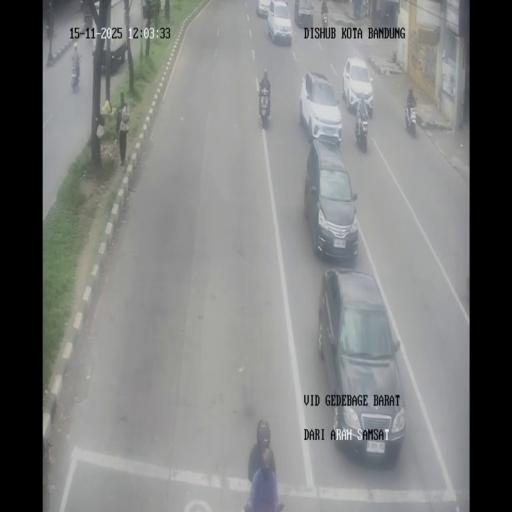3: (43, 1, 84, 31)
car: (318, 268, 404, 456), (304, 138, 358, 262), (300, 70, 342, 144), (342, 56, 374, 116), (94, 38, 128, 74), (267, 0, 292, 45), (294, 0, 314, 28), (257, 0, 271, 18)
truck: (354, 104, 370, 150), (404, 96, 418, 137), (258, 82, 271, 126), (70, 62, 80, 93), (376, 1, 385, 21), (321, 8, 328, 27), (45, 20, 51, 39), (384, 10, 390, 24), (79, 0, 83, 12)
